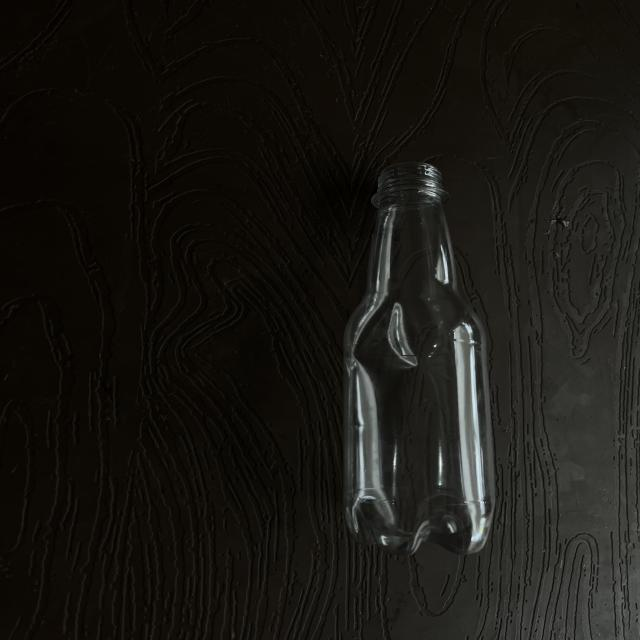PET_ClearBottle: (330, 152, 510, 640)
